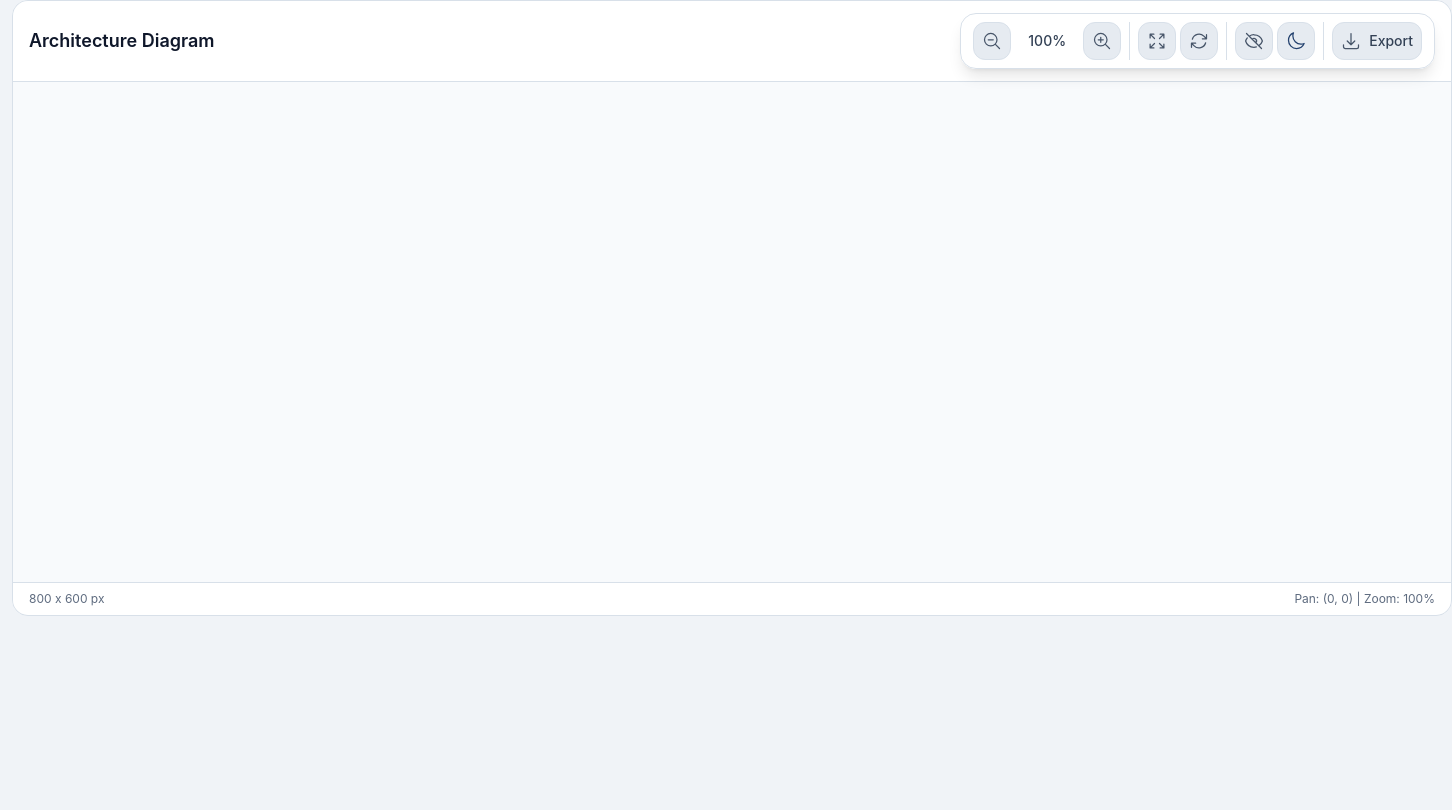
Test: DiagramViewer › theme toggle › theme toggle changes button label
This screenshot has width=1452, height=810.
Click the button named "switch to dark theme": point(1296, 41) 1277,22 -> 1315,60
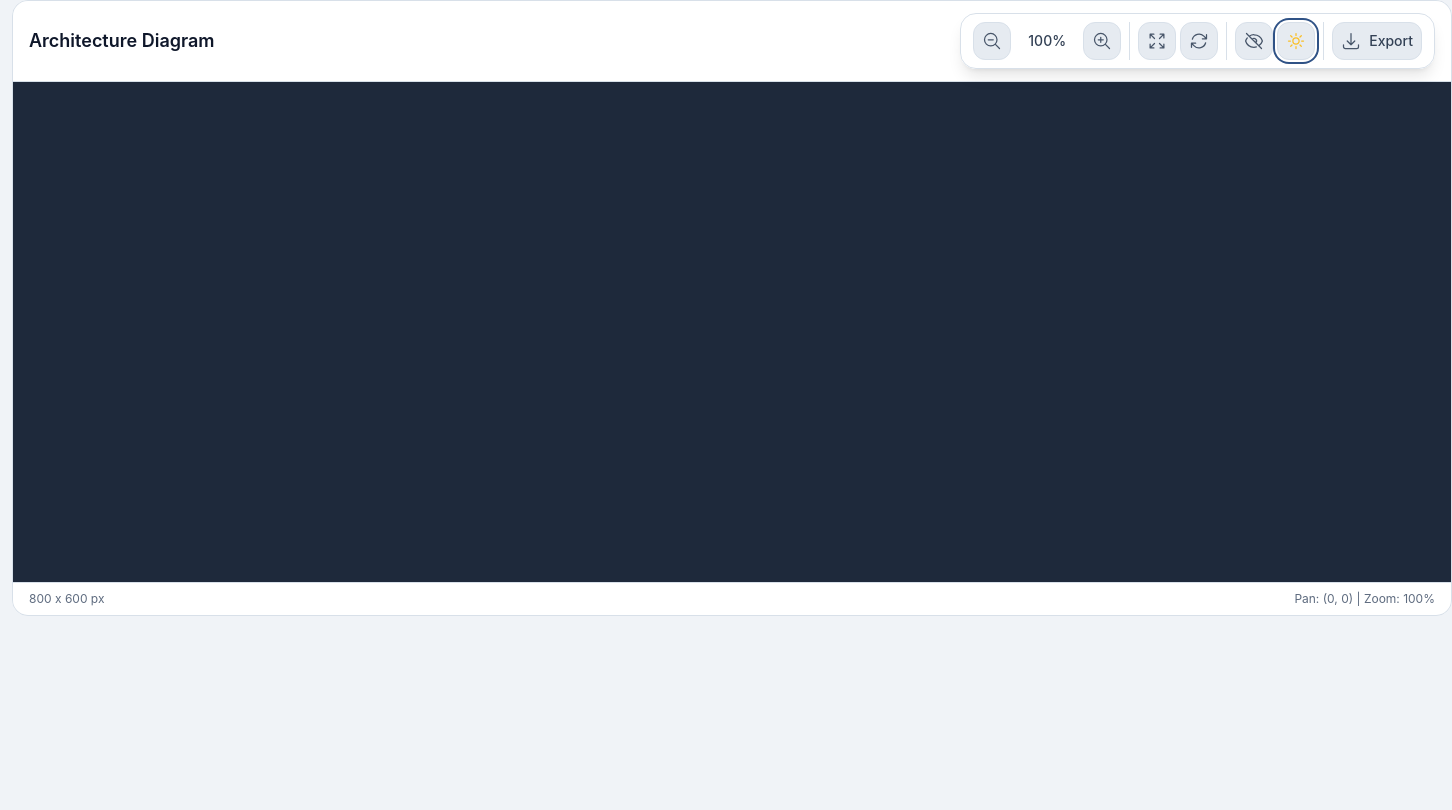
Check: the button named "switch to light theme" is shown, box 1277,22 -> 1315,60
